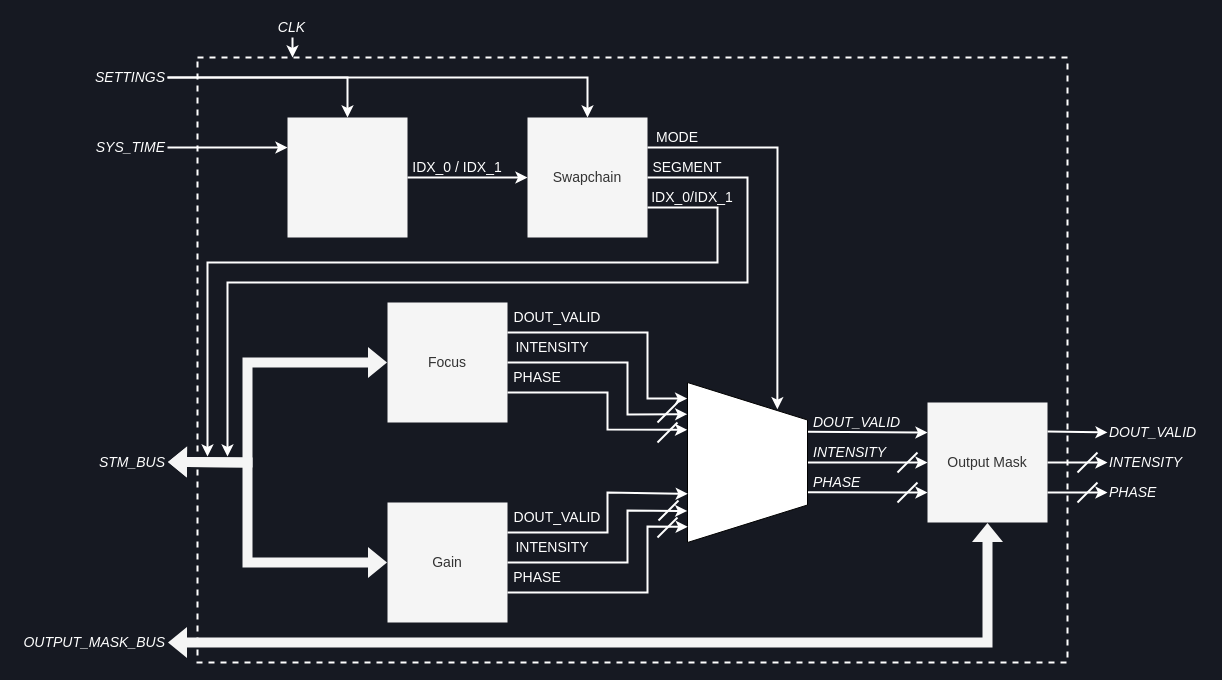
Image size: 1222x680. Some labels were removed from this diagram. Each missing label, with the box of its shape:
MUX: (686, 382, 808, 542)
Timer: (287, 117, 407, 237)
